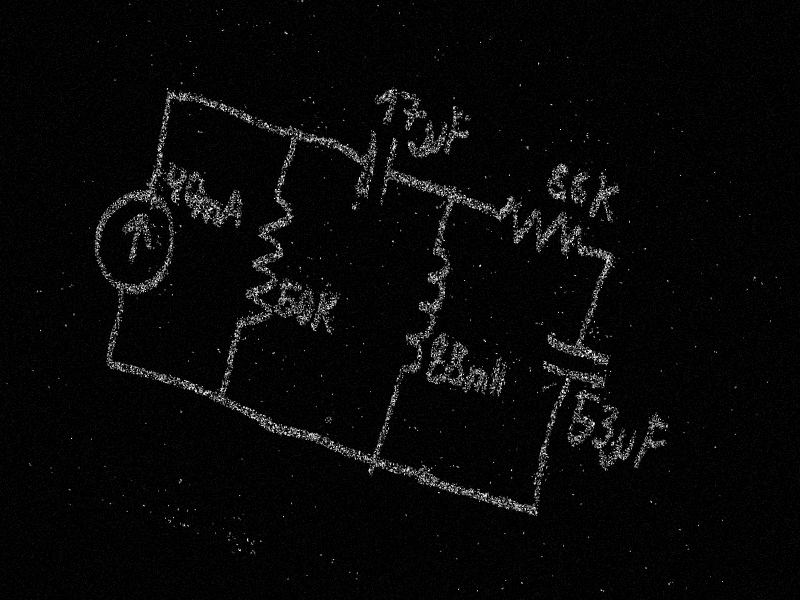0: (181, 168, 207, 213), (292, 287, 318, 329)
1: (366, 78, 401, 133)
3: (589, 400, 620, 455)
4: (159, 159, 190, 208)
5: (563, 388, 602, 454), (272, 275, 303, 323)
6: (566, 166, 593, 209)
7: (391, 88, 431, 139)
8: (422, 329, 457, 391), (442, 339, 472, 392), (542, 159, 574, 206)
A: (217, 184, 250, 236)
F: (633, 409, 673, 476), (441, 106, 476, 163)
H: (486, 356, 511, 401)
k: (588, 169, 624, 227), (309, 288, 341, 339)
m: (192, 193, 223, 228), (462, 364, 492, 398)
u: (416, 117, 448, 168), (608, 425, 639, 471)
